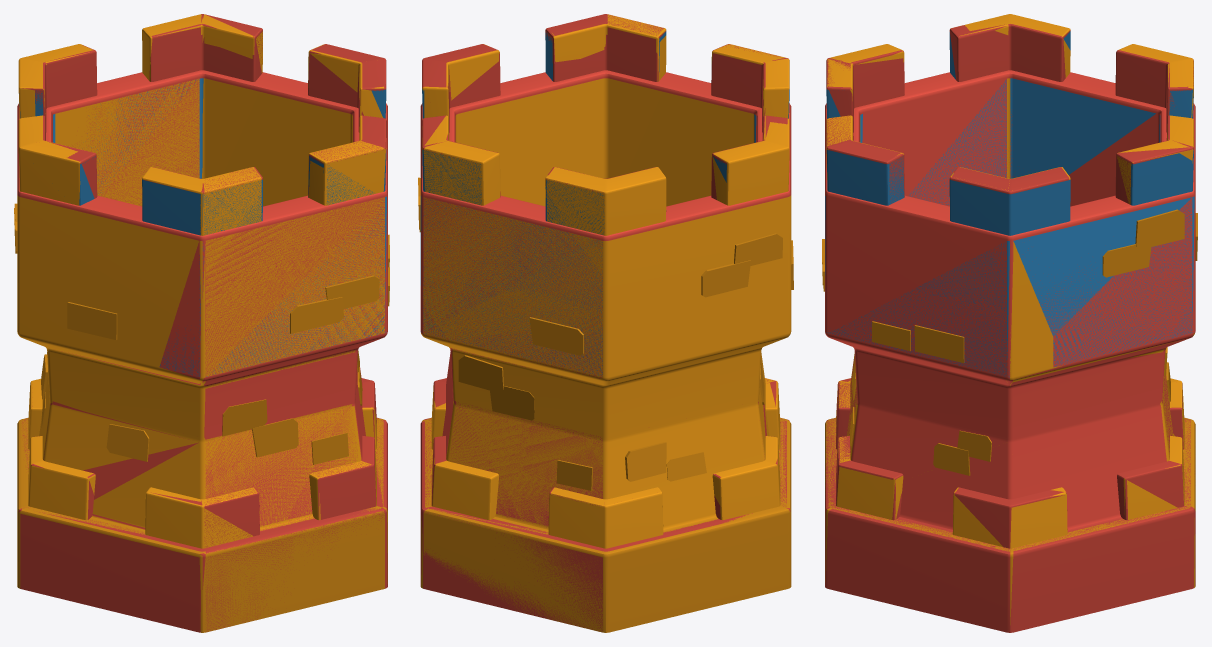
File: Castle_02.fbx
3 views of the same model, side by side, from view 1: azimuth 30°, elevation 25°; view 2: azimuth 150°, elevation 25°; view 3: azimuth 270°, elevation 25° (orthographic).
Visible parts, largest first — view 1: Castle_01, Castle_02, Castle_03; view 2: Castle_01, Castle_02, Castle_03; view 3: Castle_02, Castle_03, Castle_01.
Part boxes in pixels (x1,y1,x2,y2): Castle_01: [14, 14, 389, 632]; Castle_02: [17, 14, 387, 632]; Castle_03: [19, 78, 386, 376]; Castle_01: [418, 14, 793, 632]; Castle_02: [420, 14, 791, 631]; Castle_03: [420, 31, 789, 376]; Castle_02: [825, 24, 1195, 632]; Castle_03: [825, 31, 1194, 377]; Castle_01: [822, 14, 1197, 624].
Size of the model in its own units: 1.76 by 2.01 by 1.55.
